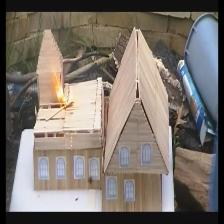fire: (55, 71, 67, 104)
